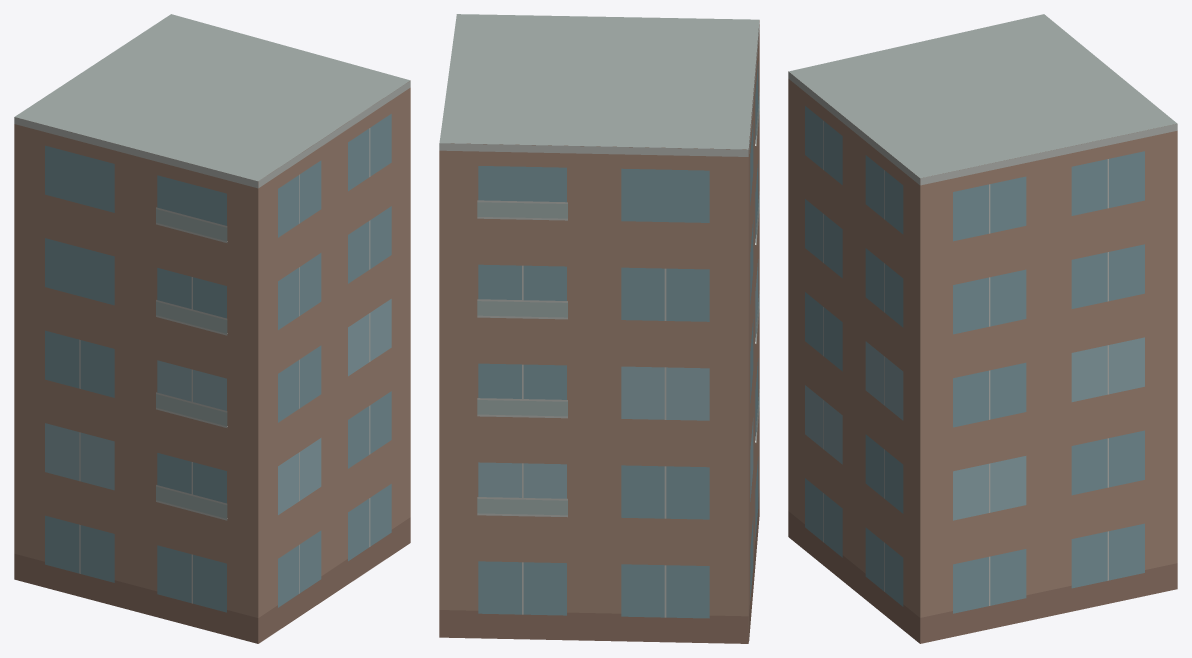
Rendered from survey-upis-32841642.glb.
3 renders of one model, left to right at view 1: azimuth 30°, elevation 25°; view 2: azimuth 150°, elevation 25°; view 3: azimuth 270°, elevation 25°, orthographic. The views are drawn at different scales.
Parts seen in each view (by area): view 1: survey-upis-32841642.tmp; view 2: survey-upis-32841642.tmp; view 3: survey-upis-32841642.tmp.
Part boxes in pixels (left/top/right/bottom): survey-upis-32841642.tmp: left=14, top=14, right=410, bottom=643; survey-upis-32841642.tmp: left=439, top=14, right=759, bottom=643; survey-upis-32841642.tmp: left=788, top=14, right=1177, bottom=643.
Bounding box in the file's own units: 12.13 × 16 × 12.13.
